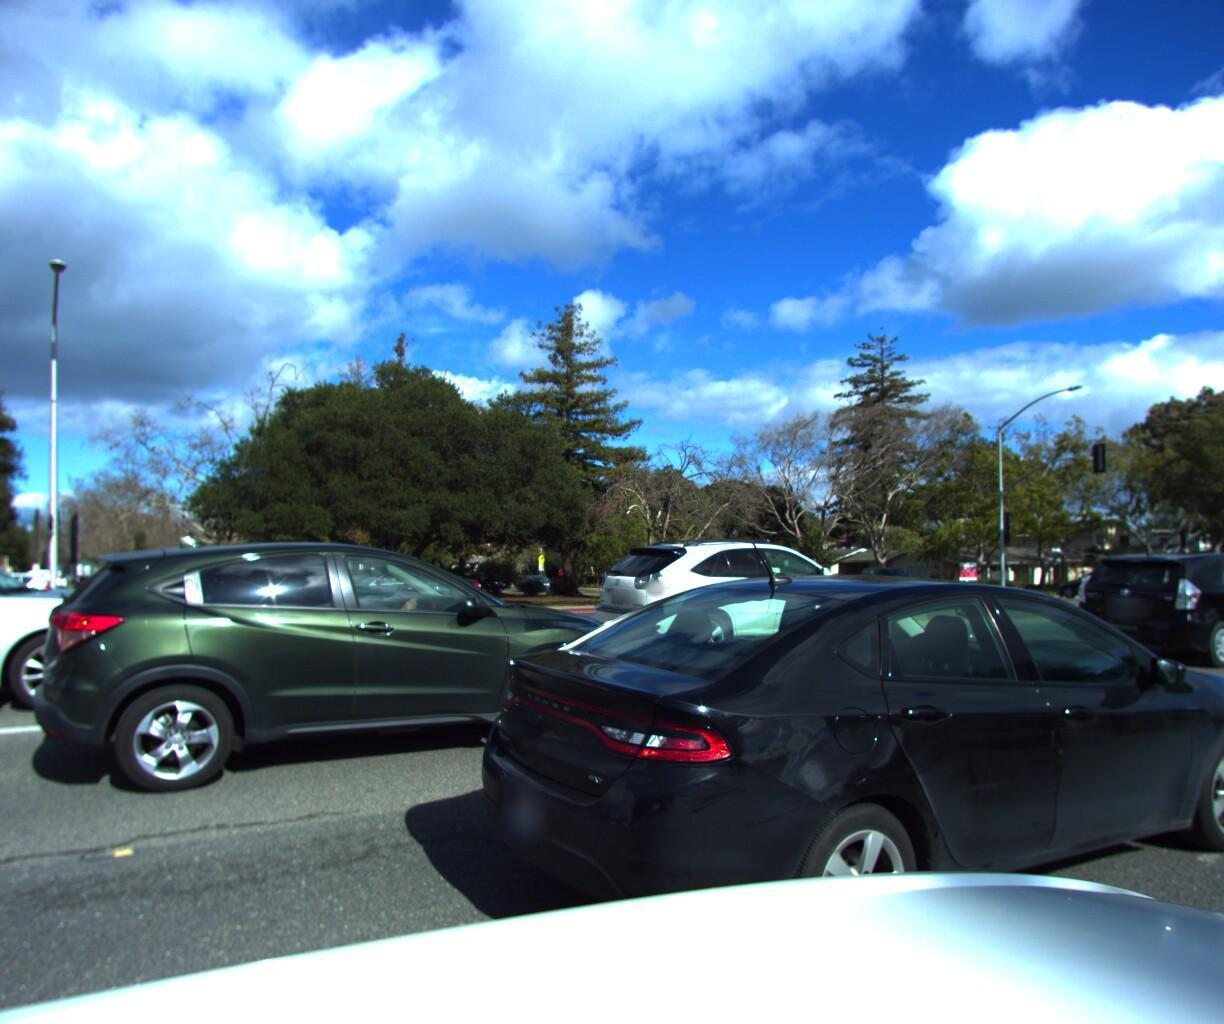car: (448, 518, 1224, 1024), (10, 538, 670, 834), (0, 519, 171, 782), (591, 523, 905, 665), (1052, 554, 1224, 678), (849, 571, 924, 610)
